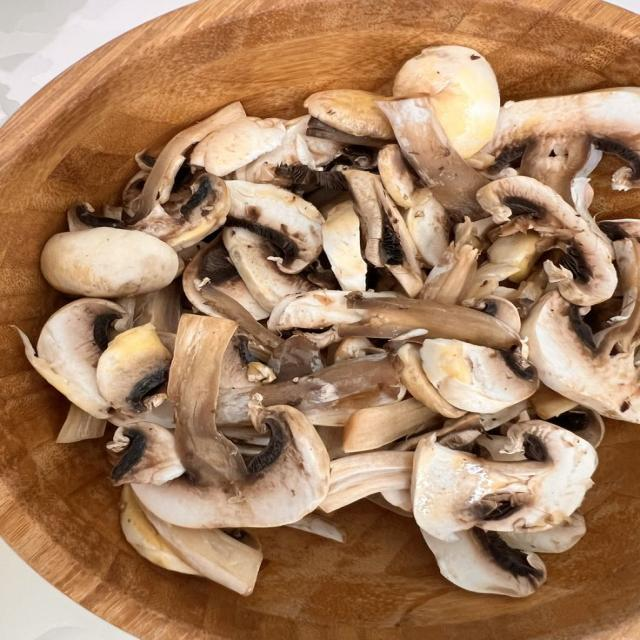champignon mushrooms: (132, 315, 329, 527), (412, 421, 597, 541), (478, 177, 617, 305), (482, 89, 639, 189), (523, 291, 639, 422), (121, 487, 262, 594), (268, 291, 519, 348), (217, 353, 405, 426), (377, 95, 486, 220), (480, 421, 597, 531), (16, 299, 124, 418), (134, 102, 246, 214), (394, 46, 499, 158), (182, 243, 280, 347), (345, 170, 423, 297), (146, 511, 262, 595), (40, 228, 179, 298), (227, 181, 323, 273), (420, 339, 538, 412), (422, 528, 546, 596), (222, 227, 317, 311), (131, 173, 230, 251), (234, 115, 341, 183), (120, 485, 199, 574), (97, 323, 171, 414), (320, 451, 414, 513), (190, 117, 285, 176), (343, 398, 441, 452), (397, 343, 464, 418), (107, 423, 185, 486), (305, 90, 393, 139), (322, 201, 367, 290), (404, 190, 452, 266), (420, 243, 478, 304), (500, 513, 586, 553), (378, 144, 430, 208), (220, 332, 275, 388), (487, 231, 542, 282), (267, 335, 324, 382), (133, 280, 182, 333), (547, 407, 604, 448), (463, 296, 520, 332), (56, 404, 106, 443), (529, 383, 578, 420), (287, 513, 346, 542), (67, 203, 126, 231), (334, 336, 384, 362), (367, 490, 413, 518)
